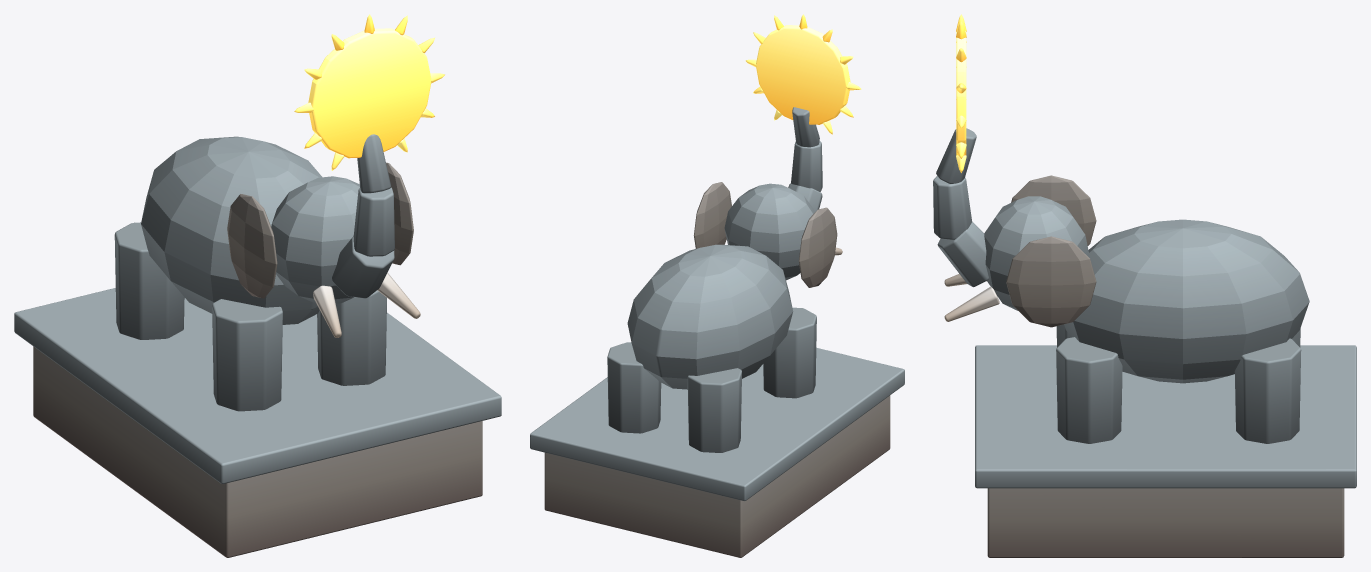
The model's file is elephant_statue.glb.
3 renders of one model, left to right at view 1: azimuth 30°, elevation 25°; view 2: azimuth 150°, elevation 25°; view 3: azimuth 270°, elevation 25°, orthographic. The views are drawn at different scales.
Parts seen in each view (by area): view 1: elephant_statue; view 2: elephant_statue; view 3: elephant_statue.
Boxes of the visible parts, x1,y1,x2,y2 form: elephant_statue: (14,14,501,557); elephant_statue: (530,14,904,557); elephant_statue: (933,14,1356,557).
Size of the model in its own units: 3.5 by 6.24 by 4.99.
Materials: 3 (3 with a texture image).
